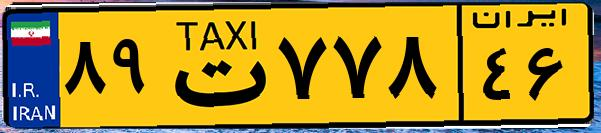4: (475, 38, 525, 113)
6: (525, 38, 570, 115)
7: (270, 28, 330, 110), (330, 28, 385, 110)
8: (385, 28, 445, 110), (57, 26, 110, 100)
9: (110, 28, 158, 98)
ت: (158, 12, 270, 120)
